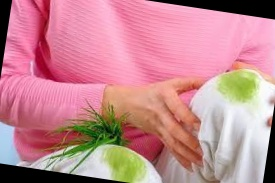earth: (103, 147, 148, 183), (219, 70, 259, 104)
